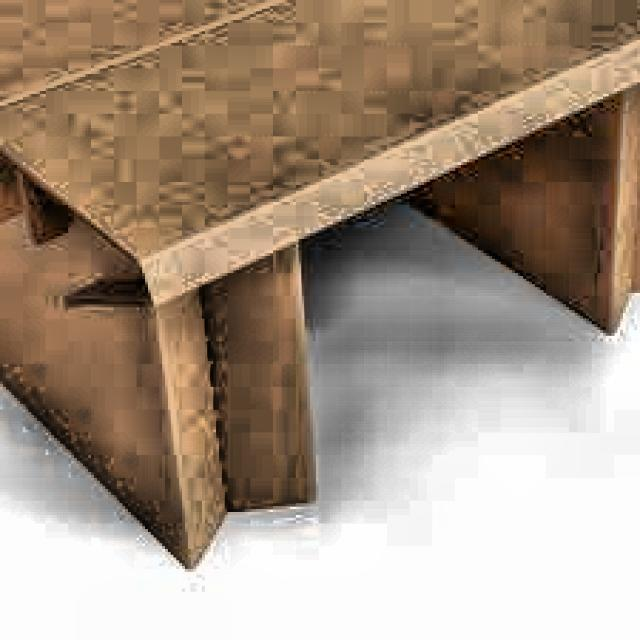cardboard: (0, 0, 637, 569)
